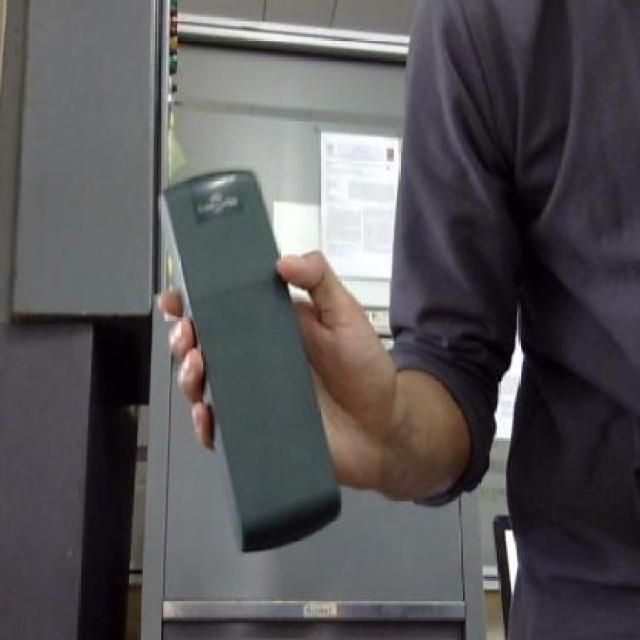Plastic: (153, 163, 347, 559)
